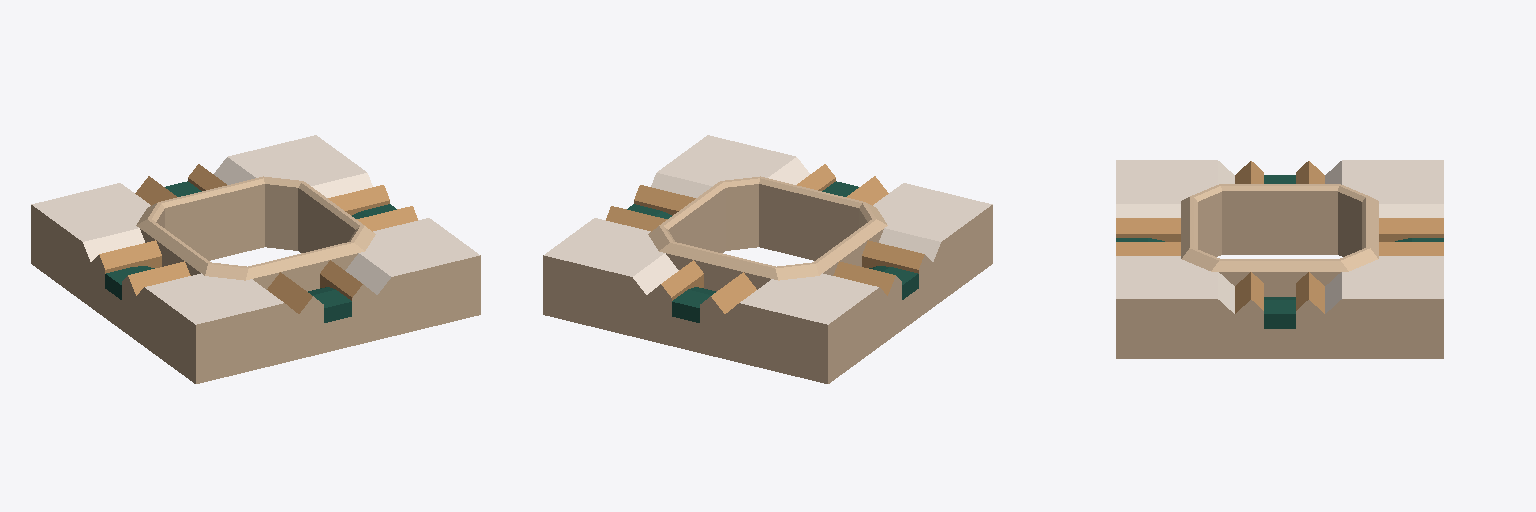
The model's file is Puzzle_Floor_Conduit_Control_Housing_Cross.obj.
The picture shows the model from 3 angles: view 1: azimuth 30°, elevation 25°; view 2: azimuth 150°, elevation 25°; view 3: azimuth 270°, elevation 25°; orthographic projection.
Parts seen in each view (by area): view 1: object5, object2, object4; view 2: object5, object1, object4; view 3: object5, object3.
Part boxes in pixels (left/top/right/bottom): object5: left=31, top=135, right=480, bottom=383; object2: left=308, top=287, right=351, bottom=322; object4: left=105, top=266, right=154, bottom=299; object5: left=543, top=135, right=992, bottom=383; object1: left=672, top=287, right=715, bottom=322; object4: left=869, top=266, right=918, bottom=299; object5: left=1116, top=160, right=1443, bottom=358; object3: left=1264, top=297, right=1295, bottom=328.
Size of the model in its own units: 1 by 0.225 by 1.